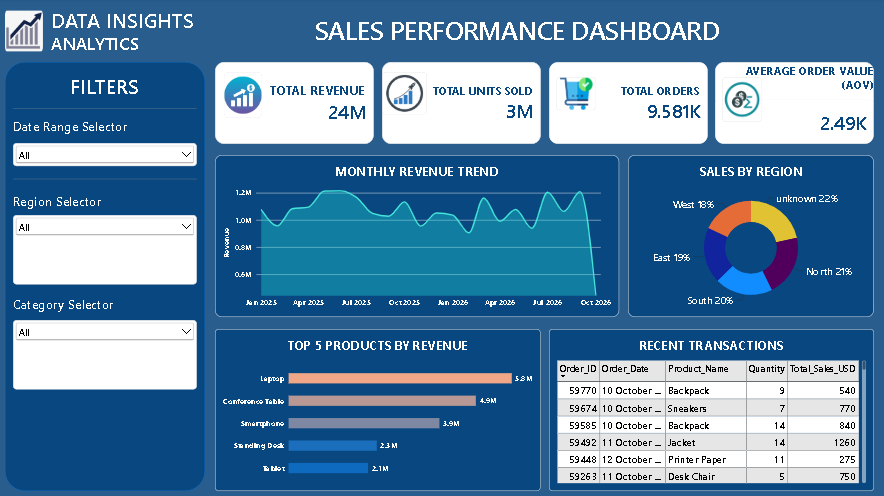

The dashboard page shown, as its layout file describes it:
{"tool":"powerbi","page":{"name":"Page 1","canvas":[1920,1080],"ordinal":0},"visuals":[{"type":"textbox","box":[114.5,17.3,332.6,75.6],"z":0},{"type":"textbox","box":[114.5,71.3,205.2,54],"z":1000},{"type":"image","box":[15.1,17.3,82.1,108],"z":2000},{"type":"textbox","box":[669.6,34.6,1147,90.7],"z":3000},{"type":"slicer","box":[32.4,237.6,397.4,250.6],"z":4000},{"type":"shape","box":[15.1,138.2,432,926.6],"z":5000},{"type":"slicer","fields":{"Values":["sales_analytics.Order_Date"]},"box":[32.4,313.2,397.4,49.7],"z":6000},{"type":"slicer","fields":{"Values":["sales_analytics.Region"]},"box":[32.4,468.7,397,150],"z":7000},{"type":"slicer","fields":{"Values":["sales_analytics.Category"]},"box":[32.4,695.5,397.4,150],"z":8000},{"type":"textbox","box":[155.5,159.8,164.2,60.5],"z":9000},{"type":"shape","box":[32.4,220.3,397.4,36.7],"z":10000},{"type":"shape","box":[32.4,362.9,397.4,56.2],"z":11000},{"type":"textbox","box":[32.4,257,272.2,56.2],"z":12000},{"type":"textbox","box":[32.4,419,373.7,49.7],"z":13000},{"type":"textbox","box":[32.4,641.5,248.4,54],"z":14000},{"type":"cardVisual","fields":{"Data":["Sum(sales_analytics.Total_Sales_USD)"]},"box":[468.7,138.2,343,177.1],"z":15000},{"type":"cardVisual","fields":{"Data":["CountNonNull(sales_analytics.Total_Sales_USD)"]},"box":[1190.2,138.2,343,177.1],"z":16000},{"type":"cardVisual","fields":{"Data":["Sum(sales_analytics.Unit_Price_USD)"]},"box":[829.4,138.2,343,177.1],"z":17000},{"type":"cardVisual","title":"AVERAGE ORDER  VALUE (AOV)","fields":{"Data":["Avg(sales_analytics.Total_Sales_USD)"]},"box":[1548.7,138.2,343,177.1],"z":18000},{"type":"cardVisual","fields":{"Data":["CountNonNull(sales_analytics.Order_ID)"]},"box":[488.2,159.8,82.1,99.4],"z":19000},{"type":"cardVisual","fields":{"Data":["Sum(sales_analytics.Quantity)"]},"box":[829.4,159.8,97.2,92.9],"z":20000},{"type":"cardVisual","fields":{"Data":["Sum(sales_analytics.Quantity)"]},"box":[1205.3,170.6,87,72],"z":21000},{"type":"cardVisual","fields":{"Data":["Sum(sales_analytics.Quantity)"]},"box":[1563.8,170.6,87,97],"z":22000},{"type":"areaChart","title":"MONTHLY REVENUE TREND","fields":{"Category":["sales_analytics.Order_Date.Variation.Date Hierarchy.Year","sales_analytics.Order_Date.Variation.Date Hierarchy.Month"],"Y":["Sum(sales_analytics.Total_Sales_USD)"]},"box":[468.7,339.1,872.6,350],"z":23000},{"type":"donutChart","title":"SALES BY REGION","fields":{"Category":["sales_analytics.Region"],"Y":["Sum(sales_analytics.Total_Sales_USD)"]},"box":[1360.8,339.1,531.4,349.9],"z":24000},{"type":"clusteredBarChart","title":"TOP 5 PRODUCTS BY REVENUE","fields":{"Category":["sales_analytics.Product_Name"],"Y":["Sum(sales_analytics.Total_Sales_USD)"]},"box":[468.7,715,703,349.9],"z":25000},{"type":"tableEx","title":"RECENT TRANSACTIONS","fields":{"Values":["sales_analytics.Order_ID","sales_analytics.Order_Date","sales_analytics.Product_Name","sales_analytics.Quantity","sales_analytics.Total_Sales_USD"]},"box":[1190.2,715,702,349.9],"z":26000}]}

Visuals, with their boxes in screenshot pixels (x1, y1, x2, y2), scaled from the page's 1920x1080 canvas onto the 884x496 screenshot:
textbox: crop(53, 8, 206, 43)
textbox: crop(53, 33, 147, 58)
image: crop(7, 8, 45, 58)
textbox: crop(308, 16, 836, 58)
slicer: crop(15, 109, 198, 224)
shape: crop(7, 63, 206, 489)
slicer - sales_analytics.Order_Date: crop(15, 144, 198, 167)
slicer - sales_analytics.Region: crop(15, 215, 198, 284)
slicer - sales_analytics.Category: crop(15, 319, 198, 388)
textbox: crop(72, 73, 147, 101)
shape: crop(15, 101, 198, 118)
shape: crop(15, 167, 198, 192)
textbox: crop(15, 118, 140, 144)
textbox: crop(15, 192, 187, 215)
textbox: crop(15, 295, 129, 319)
cardVisual - Sum(sales_analytics.Total_Sales_USD): crop(216, 63, 374, 145)
cardVisual - CountNonNull(sales_analytics.Total_Sales_USD): crop(548, 63, 706, 145)
cardVisual - Sum(sales_analytics.Unit_Price_USD): crop(382, 63, 540, 145)
"AVERAGE ORDER  VALUE (AOV)" cardVisual: crop(713, 63, 871, 145)
cardVisual - CountNonNull(sales_analytics.Order_ID): crop(225, 73, 263, 119)
cardVisual - Sum(sales_analytics.Quantity): crop(382, 73, 427, 116)
cardVisual - Sum(sales_analytics.Quantity): crop(555, 78, 595, 111)
cardVisual - Sum(sales_analytics.Quantity): crop(720, 78, 760, 123)
"MONTHLY REVENUE TREND" areaChart: crop(216, 156, 618, 316)
"SALES BY REGION" donutChart: crop(627, 156, 871, 316)
"TOP 5 PRODUCTS BY REVENUE" clusteredBarChart: crop(216, 328, 539, 489)
"RECENT TRANSACTIONS" tableEx: crop(548, 328, 871, 489)
